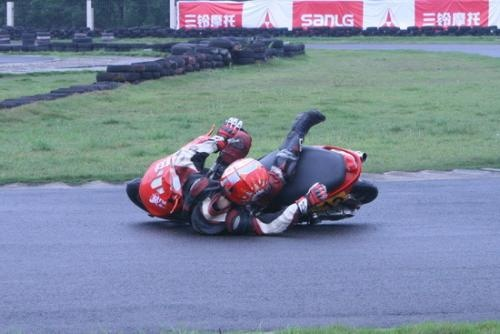falling: (128, 97, 360, 244)
